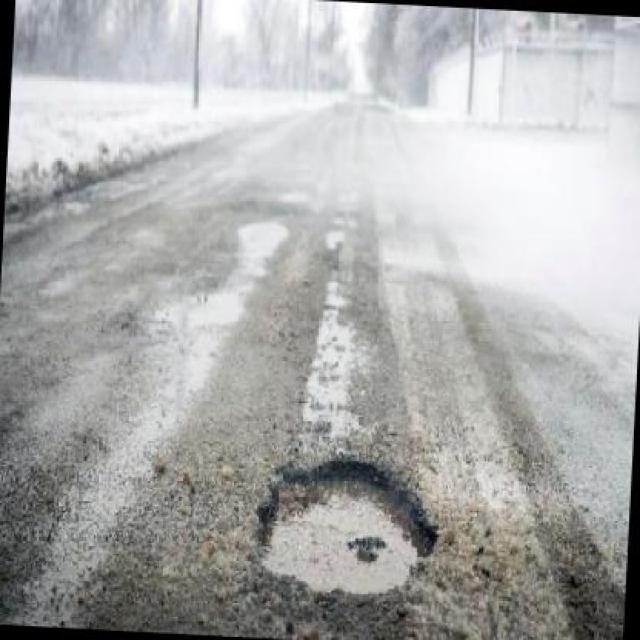pothole: (249, 440, 448, 602)
